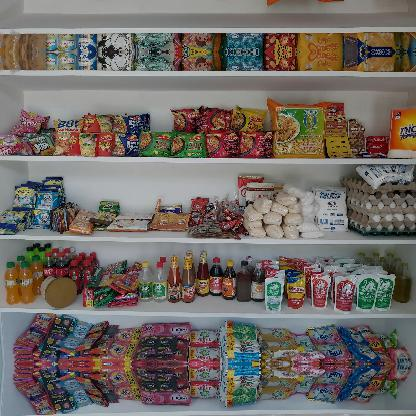Lady-s-Choice: (39, 274, 79, 310)
